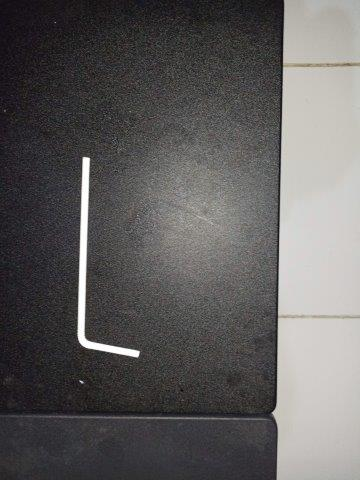sedotan: (76, 156, 140, 358)
